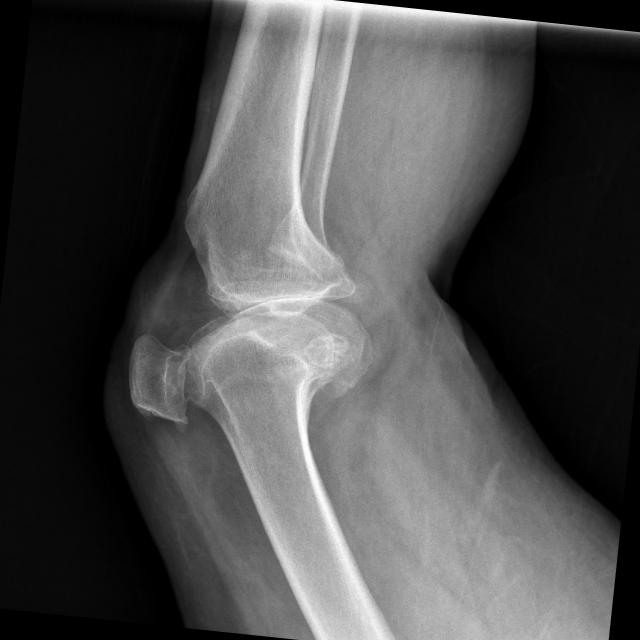Knee: (124, 234, 380, 444)
